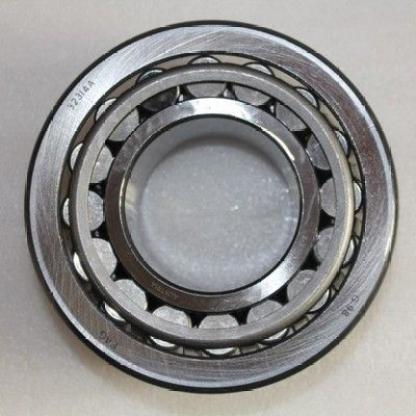FOD: (23, 18, 401, 398)
